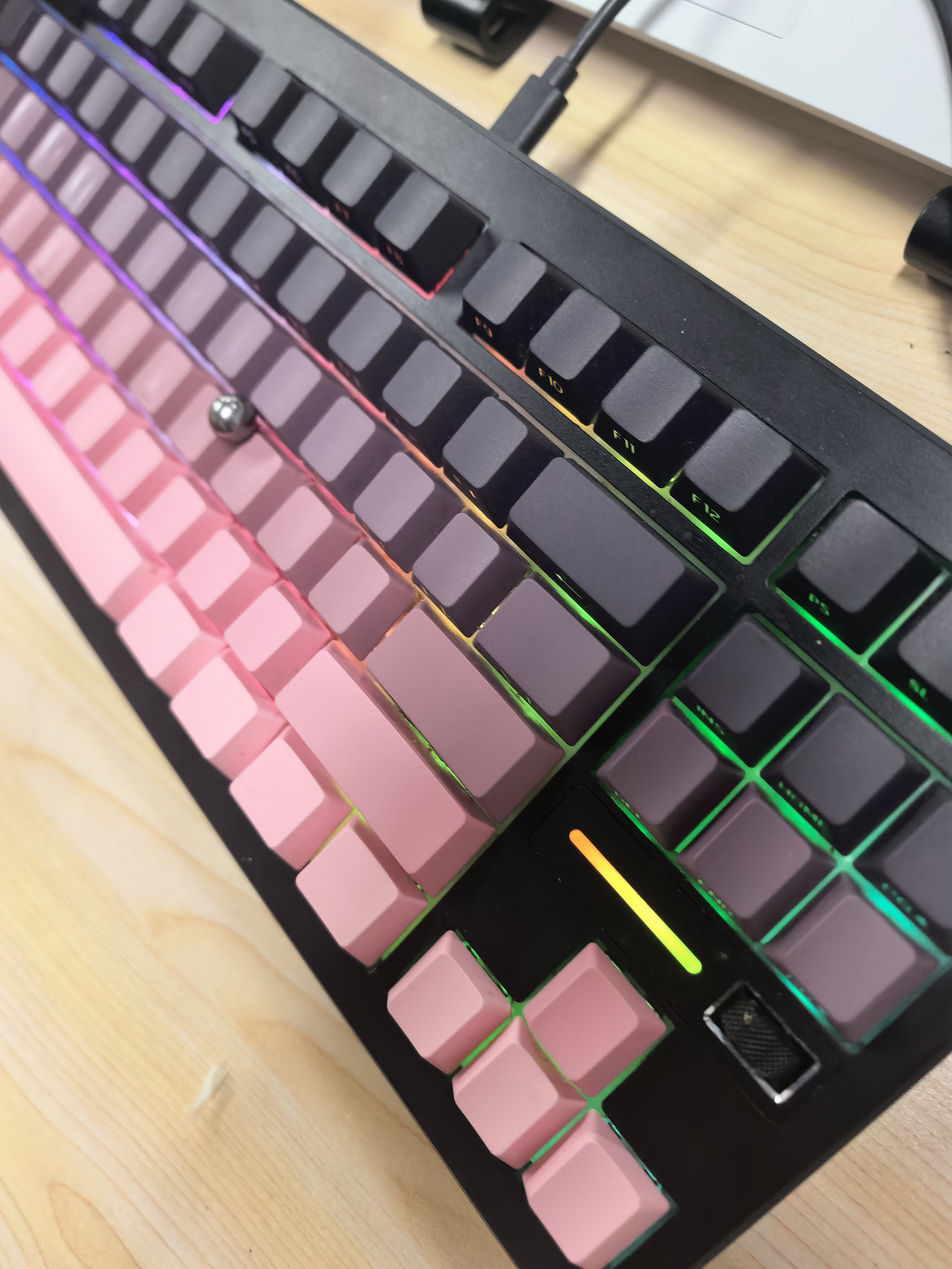ball: (208, 393, 256, 443)
